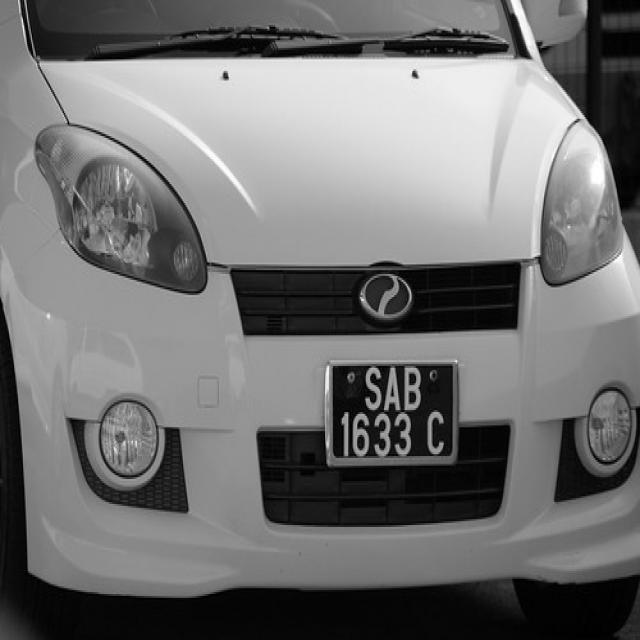car-plate: (333, 361, 456, 458)
